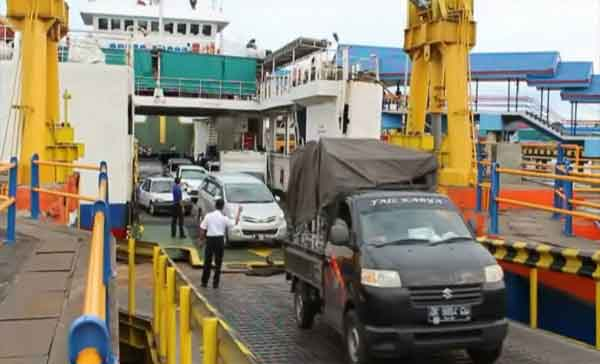plate: (428, 304, 477, 323)
